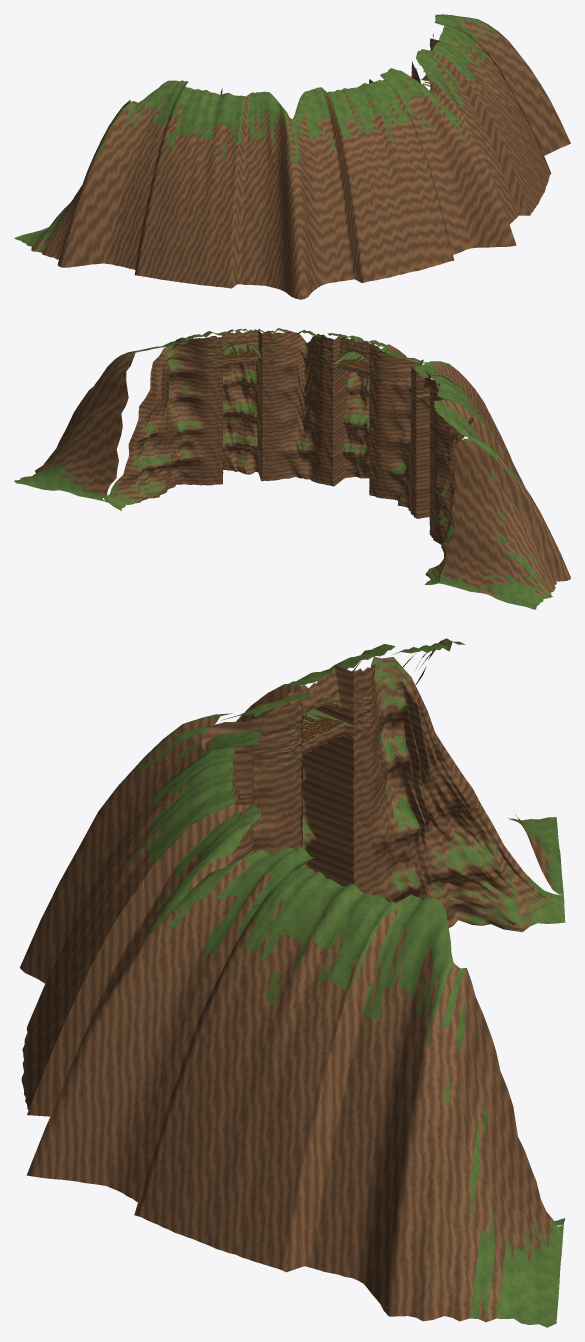
The model's file is mwm_cliff.glb.
3 renders of one model, top to bottom at view 1: azimuth 30°, elevation 25°; view 2: azimuth 150°, elevation 25°; view 3: azimuth 270°, elevation 25°, orthographic. The views are drawn at different scales.
Bounding box in the file's own units: 633 × 174 × 286.
Materials: 3 (3 with a texture image).
